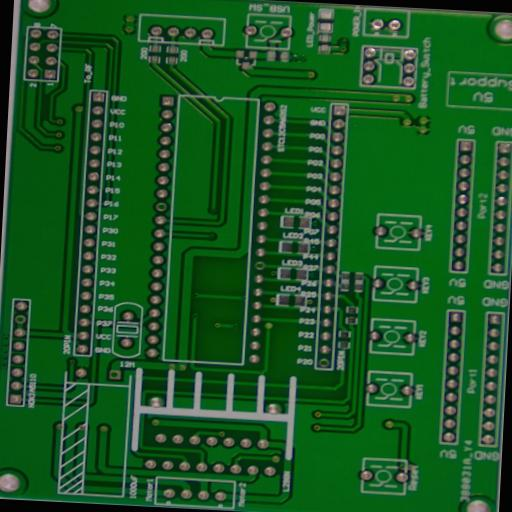missing_hole: (107, 370, 122, 381), (316, 357, 330, 368), (252, 260, 266, 271), (154, 202, 167, 212), (13, 314, 26, 324)
